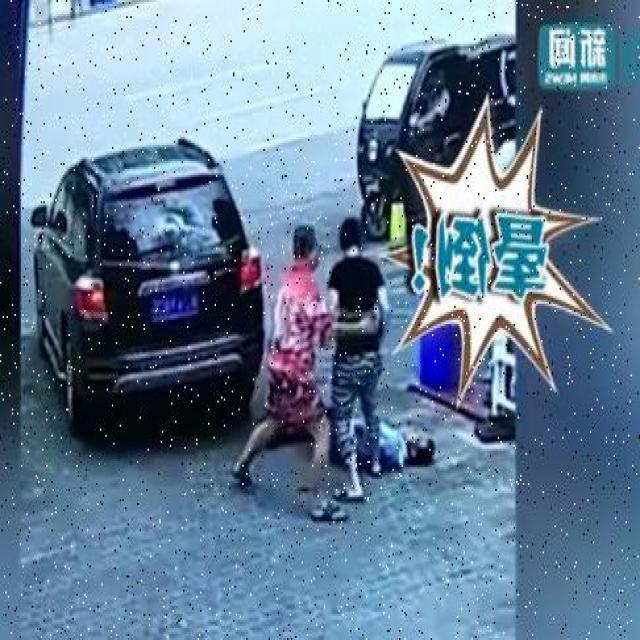fall: (280, 392, 434, 472)
